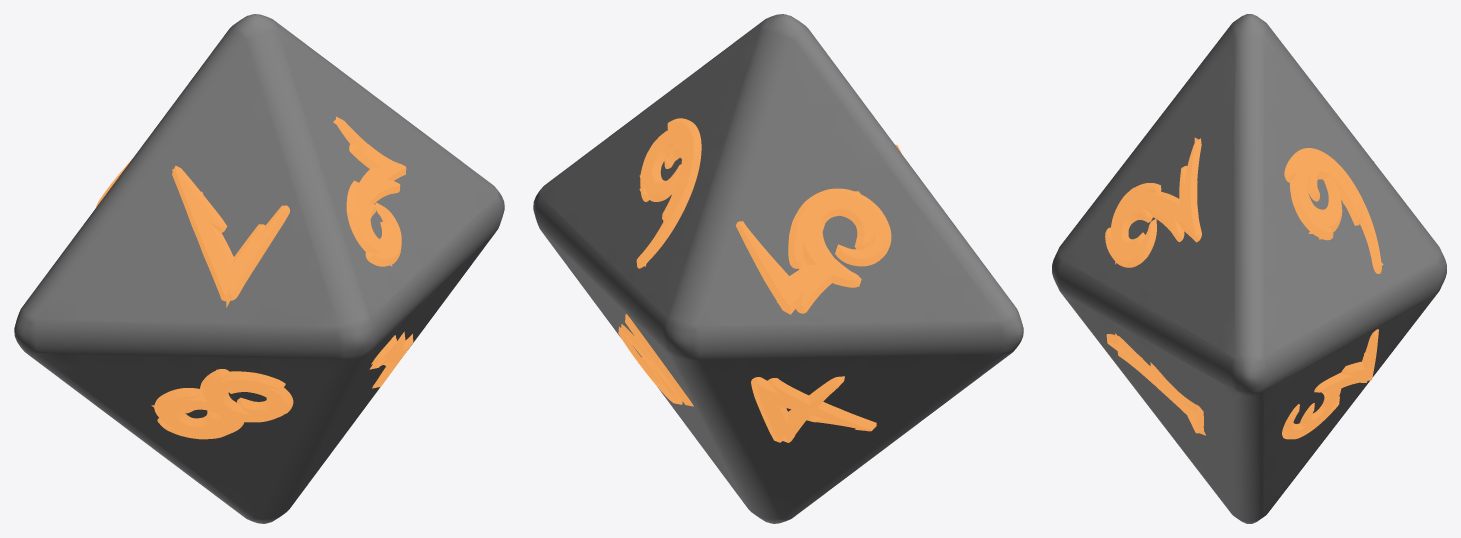
The picture shows the model from 3 angles, left to right: view 1: azimuth 30°, elevation 25°; view 2: azimuth 150°, elevation 25°; view 3: azimuth 270°, elevation 25°; orthographic projection.
Parts seen in each view (by area): view 1: d8_0, d8_1; view 2: d8_0, d8_1; view 3: d8_0, d8_1.
Part boxes in pixels (x1,y1,x2,y2): d8_0: (14, 14, 504, 523); d8_1: (96, 116, 413, 439); d8_0: (533, 14, 1023, 523); d8_1: (618, 118, 901, 442); d8_0: (1052, 14, 1446, 523); d8_1: (1105, 137, 1383, 439).
Bounding box in the file's own units: 2.59 × 2.59 × 1.85.
